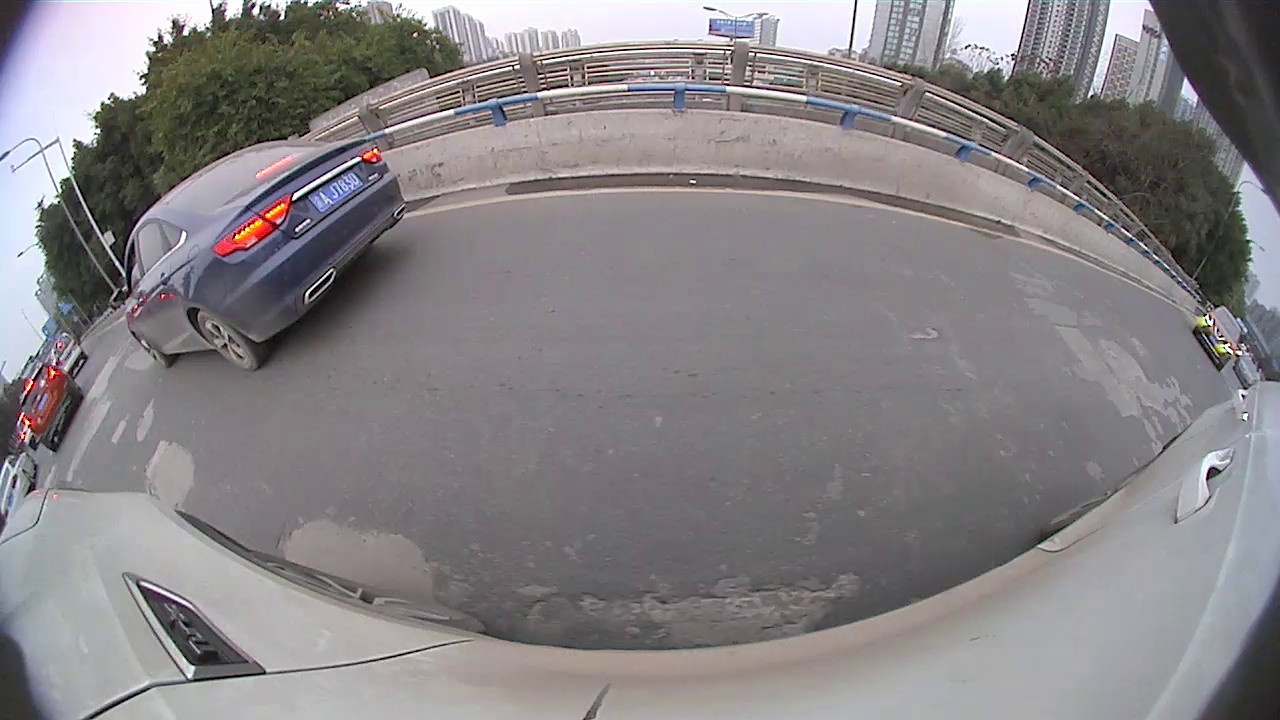bus: (792, 89, 1250, 348)
car: (2, 153, 379, 493), (875, 134, 1216, 356), (517, 158, 588, 205), (712, 158, 784, 197)
front: (281, 231, 374, 347), (882, 197, 924, 252), (825, 171, 851, 209)
rear: (1057, 262, 1133, 350), (725, 176, 734, 196)
truck: (596, 47, 714, 205)
